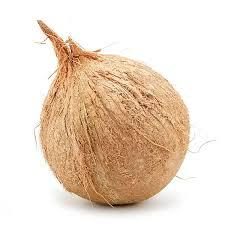coconut: (34, 18, 190, 207)
